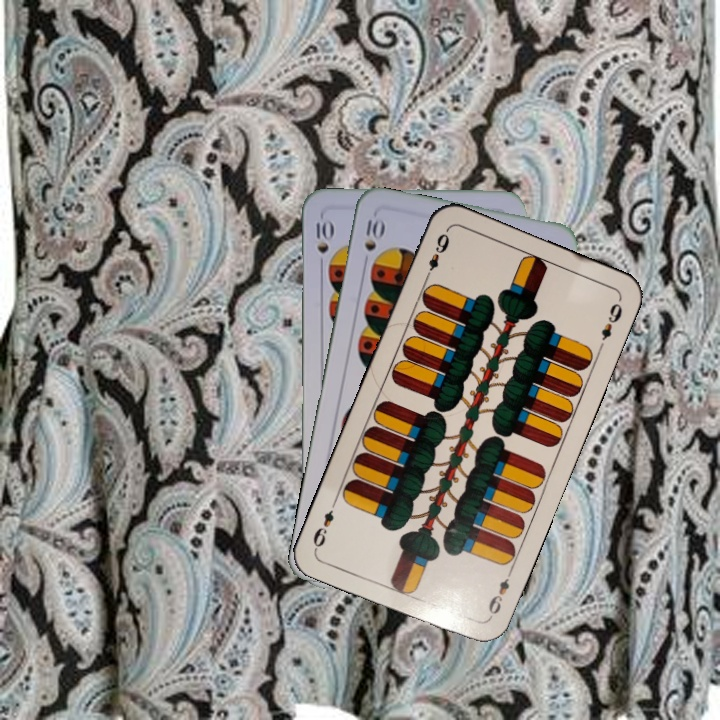E9: (420, 227, 452, 283), (484, 566, 515, 622)
S10: (312, 215, 333, 272), (360, 211, 386, 254)
